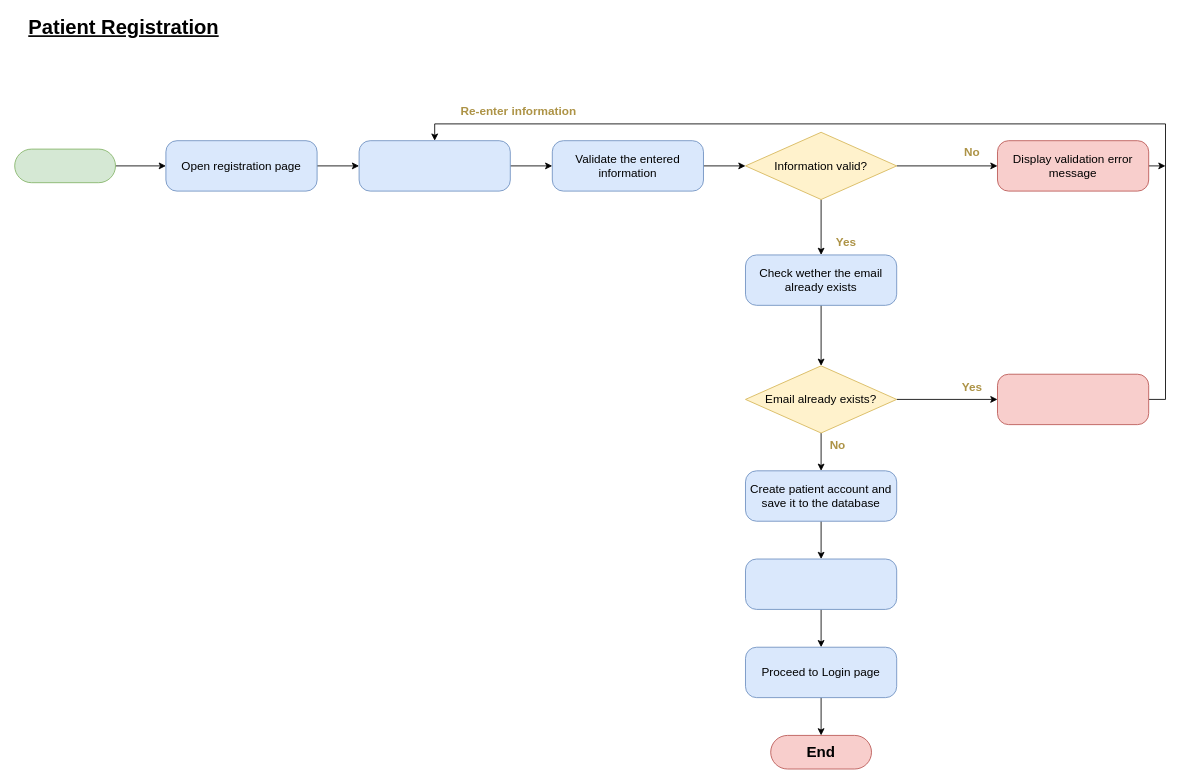
Image size: 1187x784. Some labels were removed from this diagram. Here are the shapes that lost their labels. From the top down, the box of each, then its label:
(14, 148, 116, 183): Start
(358, 140, 510, 191): Enter registration information
(997, 373, 1149, 425): Display 'email already registered' error
(745, 558, 897, 609): Display registration successful message
